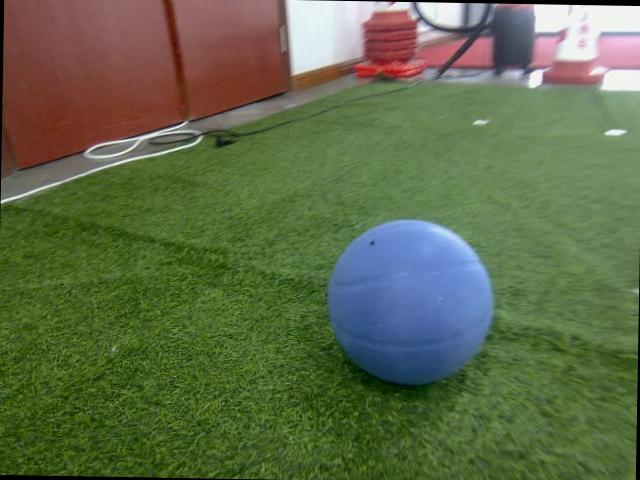blue_ball: (325, 218, 494, 388)
